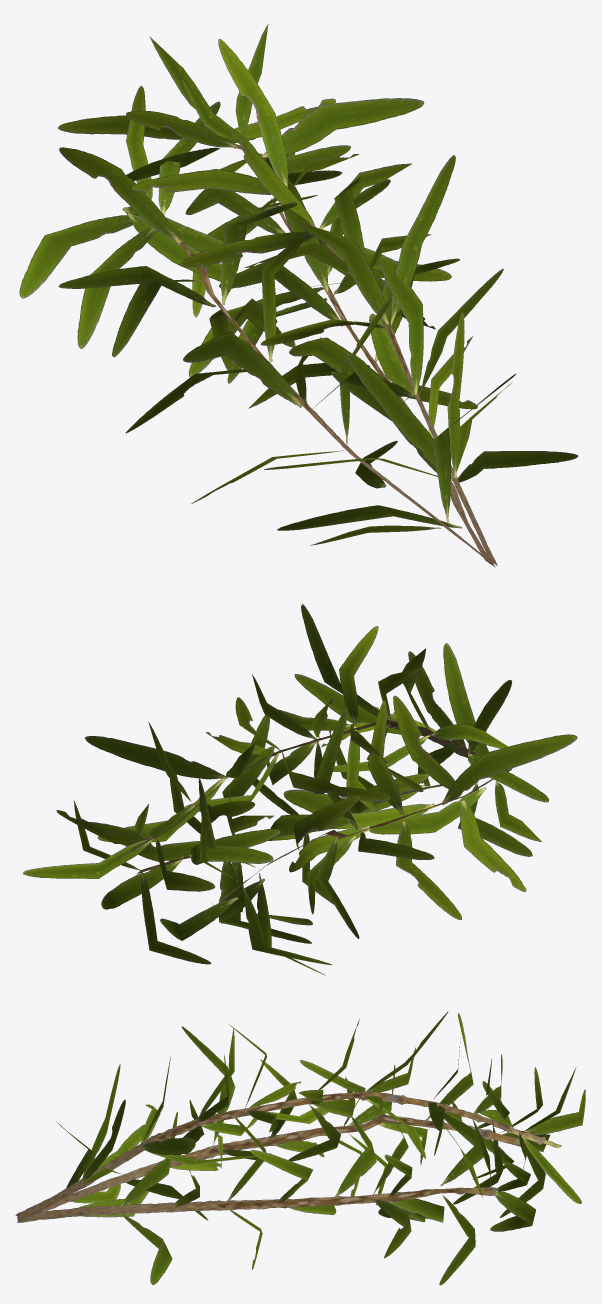
File: Rosemary.fbx
3 renders of one model, top to bottom at view 1: azimuth 30°, elevation 25°; view 2: azimuth 150°, elevation 25°; view 3: azimuth 270°, elevation 25°, orthographic. The views are drawn at different scales.
Visible parts, largest first — view 1: Rosemary; view 2: Rosemary; view 3: Rosemary.
Boxes of the visible parts, left/top/right/bottom form: Rosemary: left=19, top=24, right=577, bottom=567; Rosemary: left=23, top=604, right=577, bottom=975; Rosemary: left=15, top=1011, right=585, bottom=1285.
Size of the model in its own units: 0.053 by 0.0839 by 0.0373.
